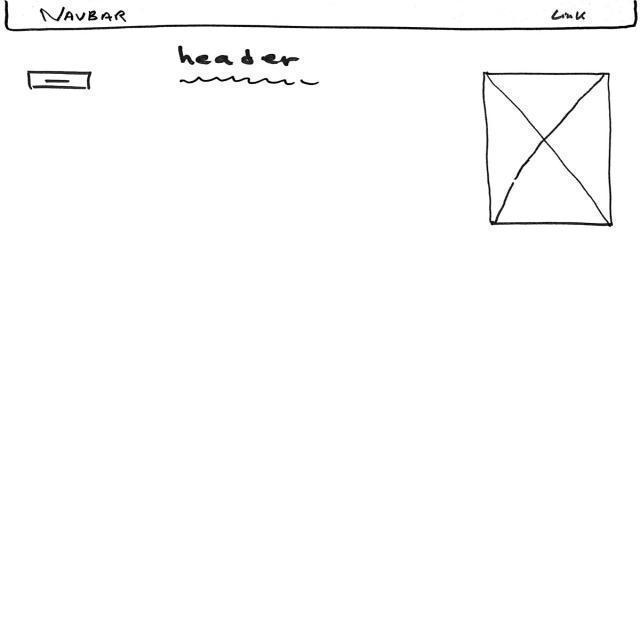container: (2, 1, 640, 33)
icon-button: (25, 70, 96, 91)
image: (479, 70, 620, 230)
label: (173, 46, 304, 69), (38, 8, 131, 25), (549, 10, 591, 23)
text: (181, 77, 322, 88)
